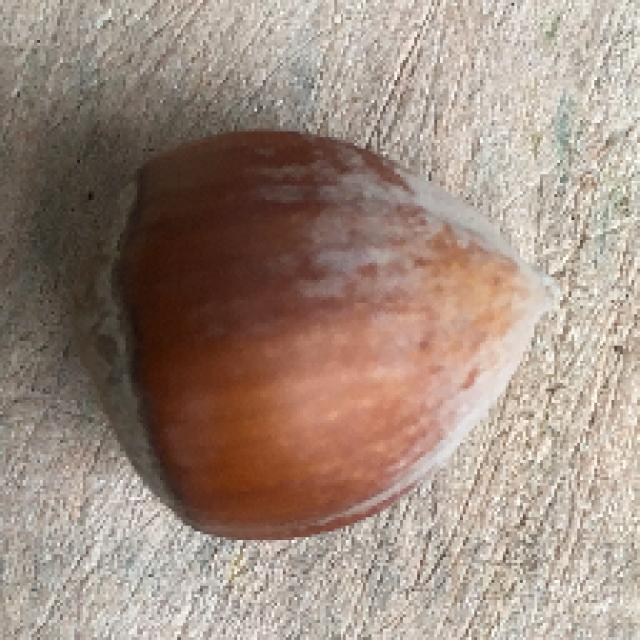qualityHazelnut: (85, 131, 560, 541)
